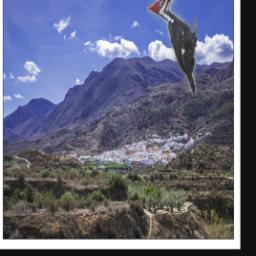Woodpecker: (147, 0, 197, 95)
